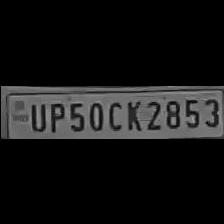0: (84, 98, 104, 132)
2: (142, 96, 162, 130)
3: (201, 94, 221, 128)
5: (64, 98, 84, 132), (182, 94, 200, 128)
8: (163, 95, 181, 129)
C: (104, 97, 124, 131)
K: (122, 97, 142, 131)
P: (46, 98, 64, 132)
U: (25, 99, 45, 131)
